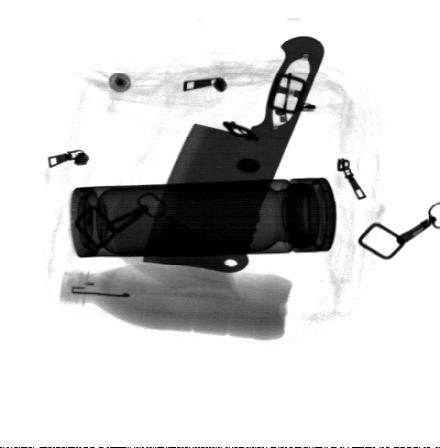Knife: (142, 35, 325, 275)
